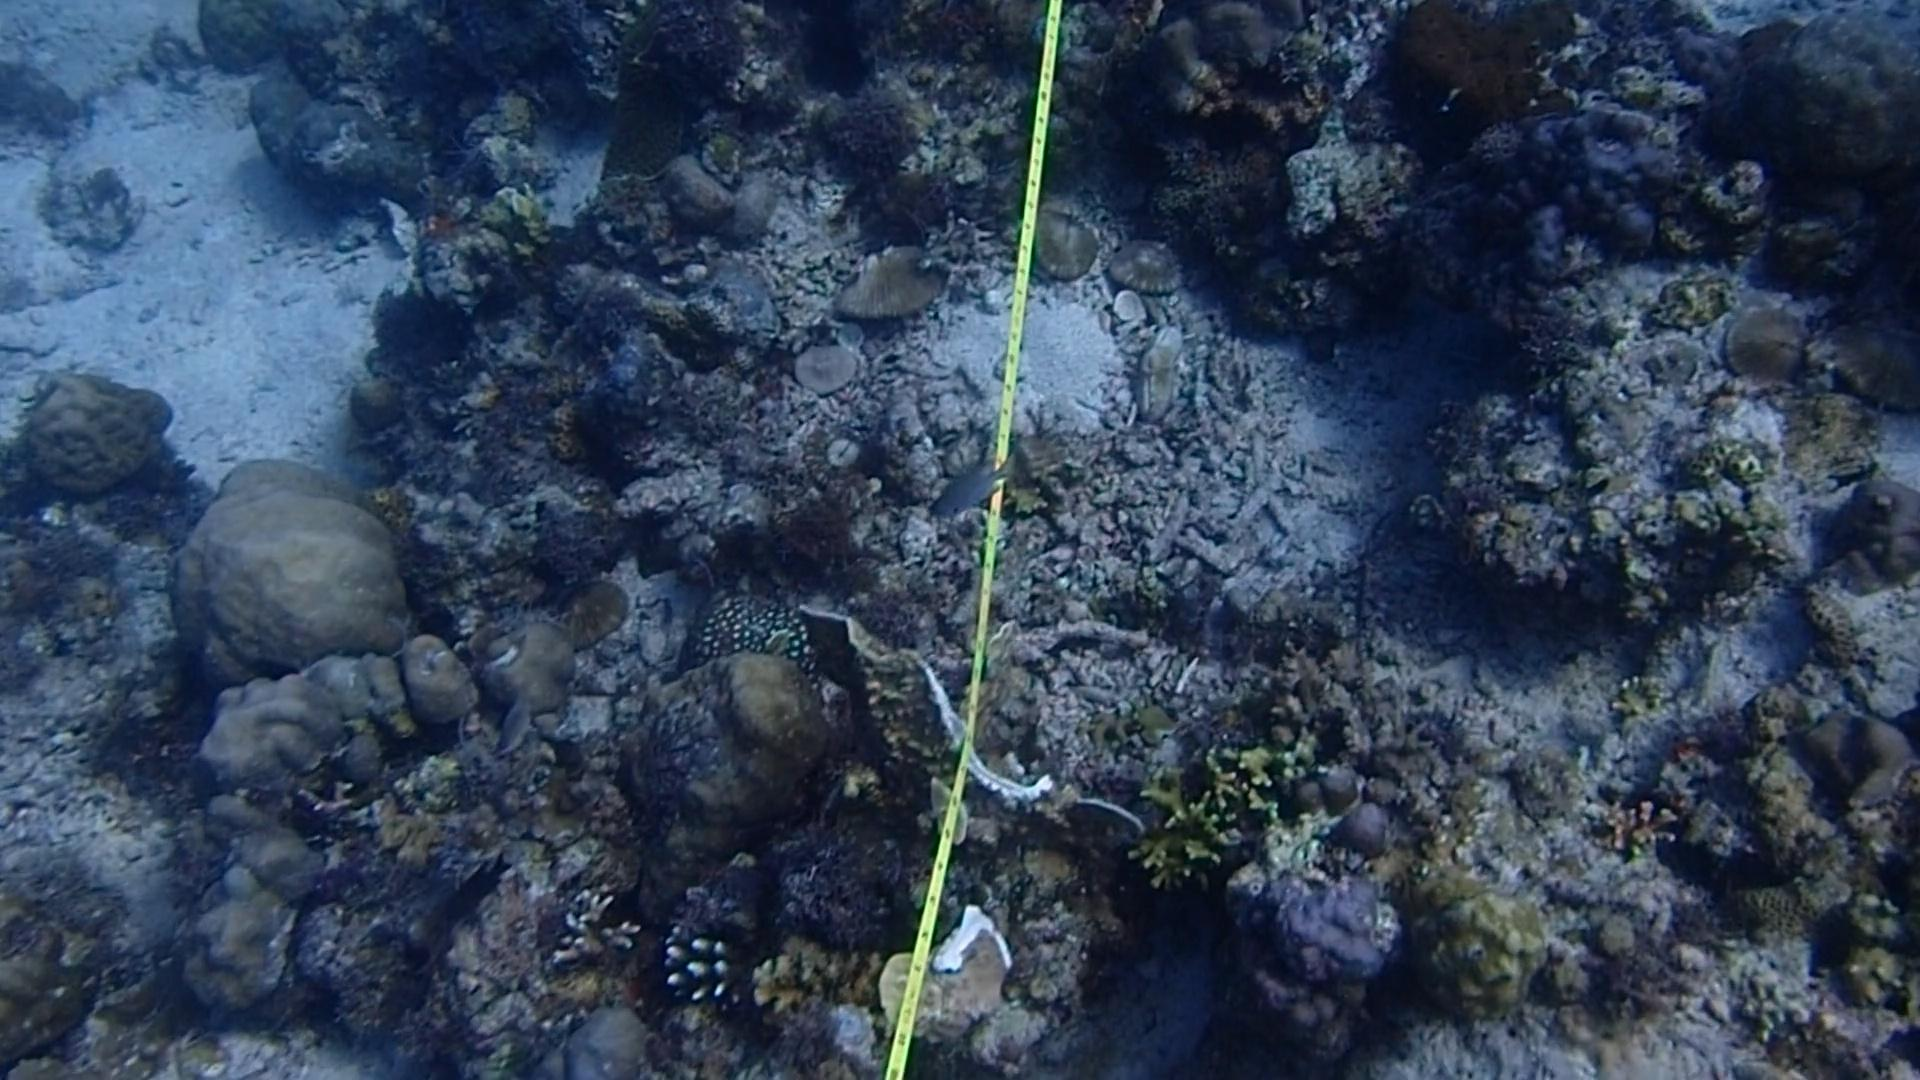Light Fish: (914, 455, 1017, 534)
